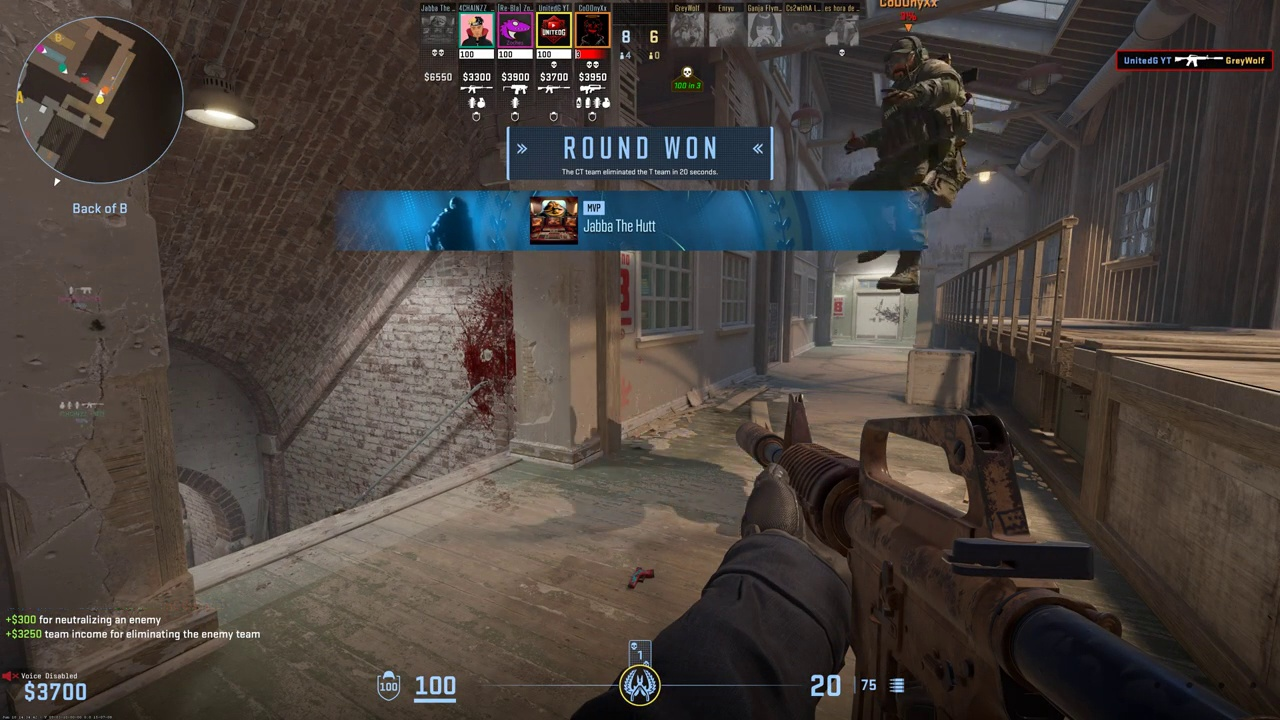CT: (848, 38, 963, 293)
